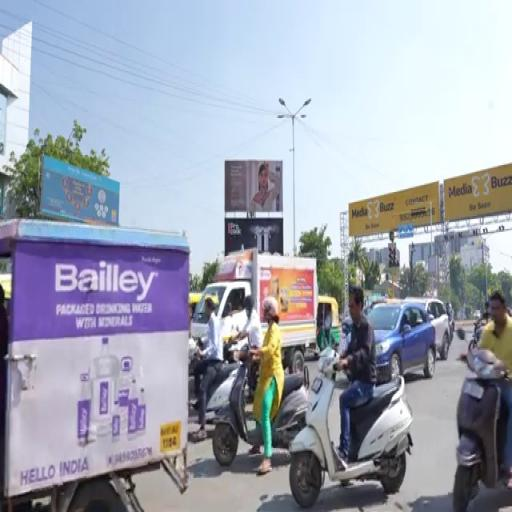Car: (368, 302, 435, 383), (405, 298, 451, 359), (340, 316, 352, 354)
